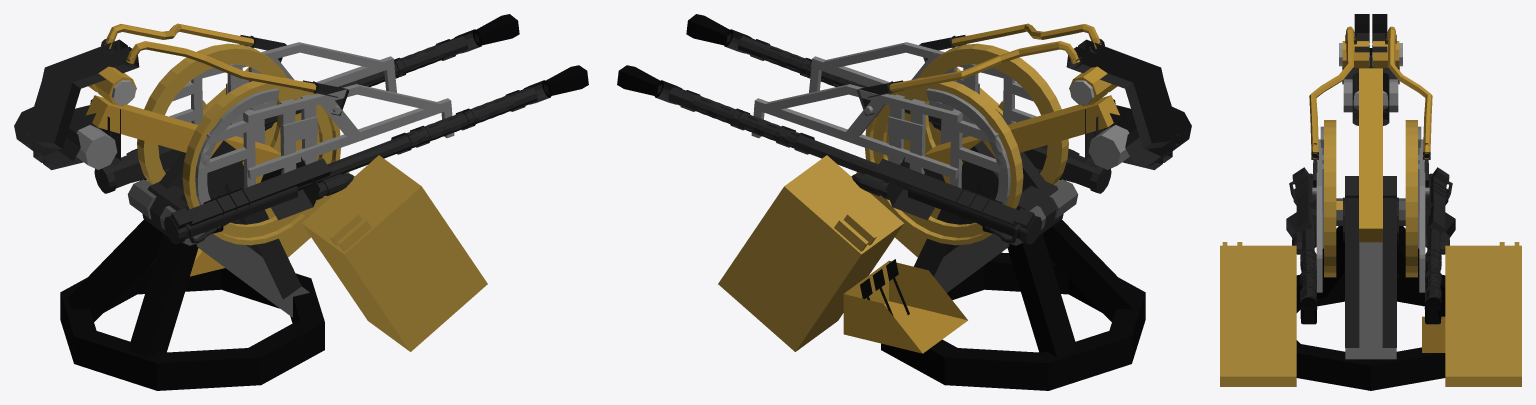
File: AntiAir.dae
3 renders of one model, left to right at view 1: azimuth 30°, elevation 25°; view 2: azimuth 150°, elevation 25°; view 3: azimuth 270°, elevation 25°, orthographic. The views are drawn at different scales.
Parts seen in each view (by area): view 1: Central Constuction, Base canon part; view 2: Central Constuction, Base canon part; view 3: Central Constuction, Base canon part.
Part boxes in pixels (left/top/right/bottom): Central Constuction: left=60, top=43, right=487, bottom=390; Base canon part: left=14, top=14, right=588, bottom=244; Central Constuction: left=718, top=43, right=1145, bottom=390; Base canon part: left=617, top=14, right=1191, bottom=244; Central Constuction: left=1220, top=120, right=1521, bottom=390; Base canon part: left=1286, top=14, right=1455, bottom=324.
Size of the model in its own units: 4.27 by 2.39 by 2.48.
